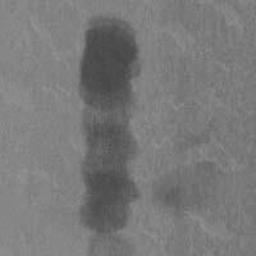Oil spot: (76, 8, 223, 256), (177, 115, 225, 154)
